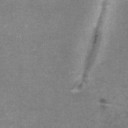finishing roll printing: (72, 0, 108, 92), (100, 98, 106, 104)
